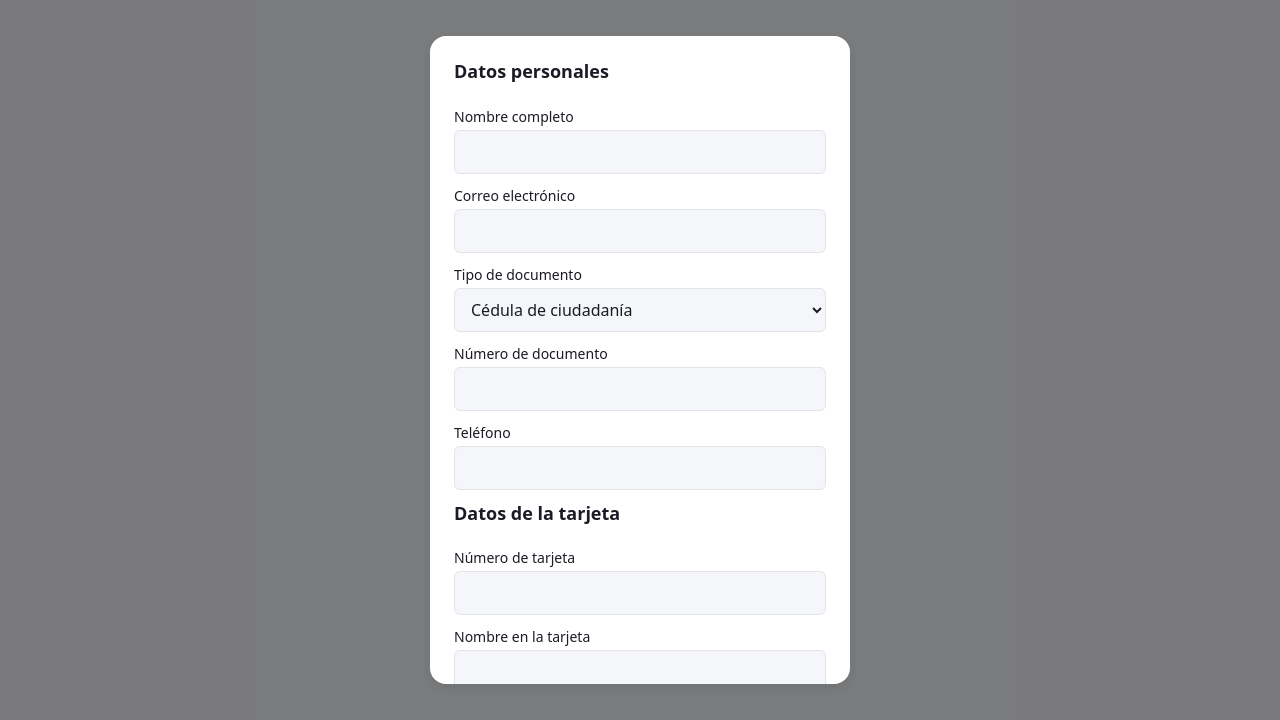
Test: CardModal › shows the detected card brand while typing
The image size is (1280, 720).
Type "4111111111111111" into the field labelled "Número de tarjeta" at (640, 593), box [454, 571, 826, 615]
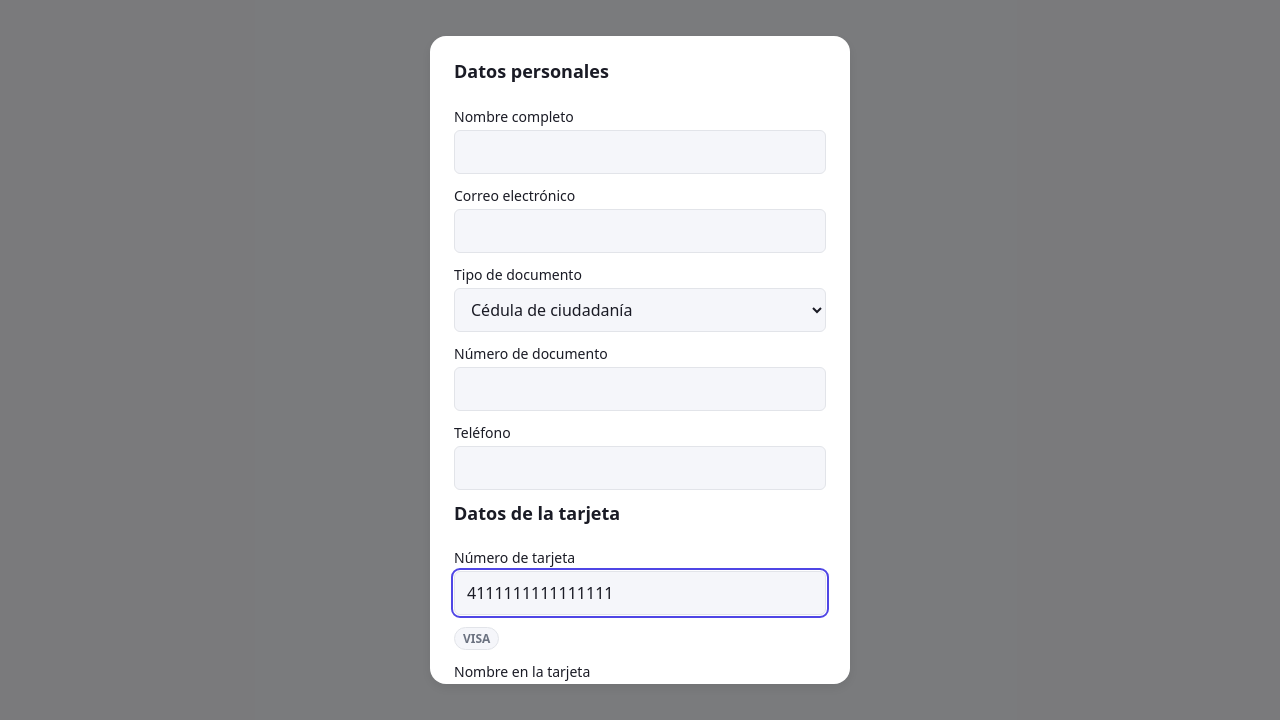
Expected: the text "visa" is shown, [454, 627, 499, 650]
